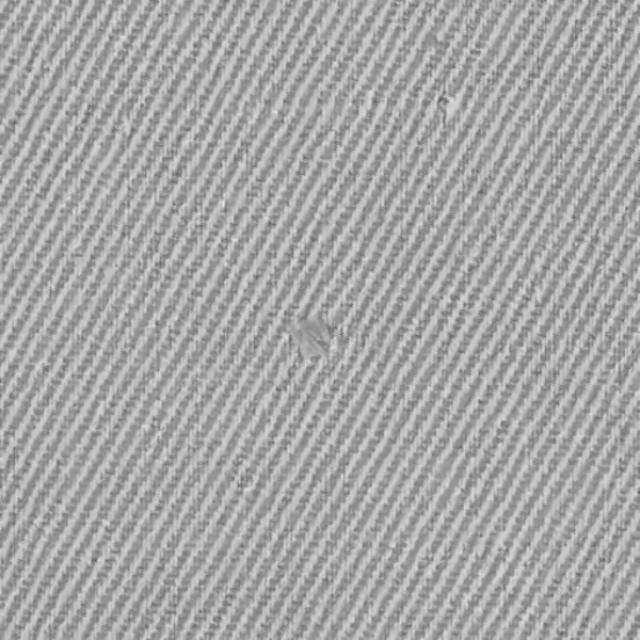seam: (240, 288, 382, 388)
